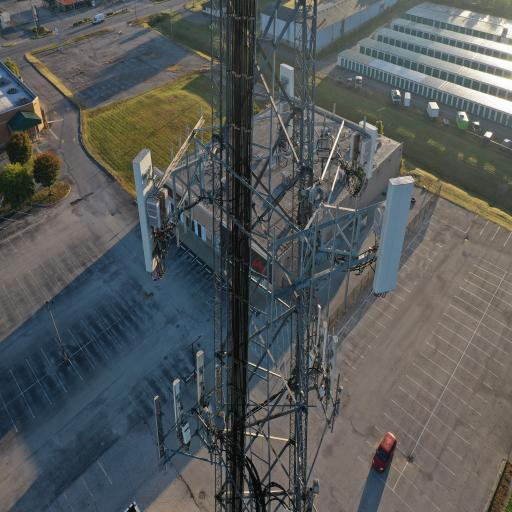supporting_tower: (130, 0, 424, 512)
